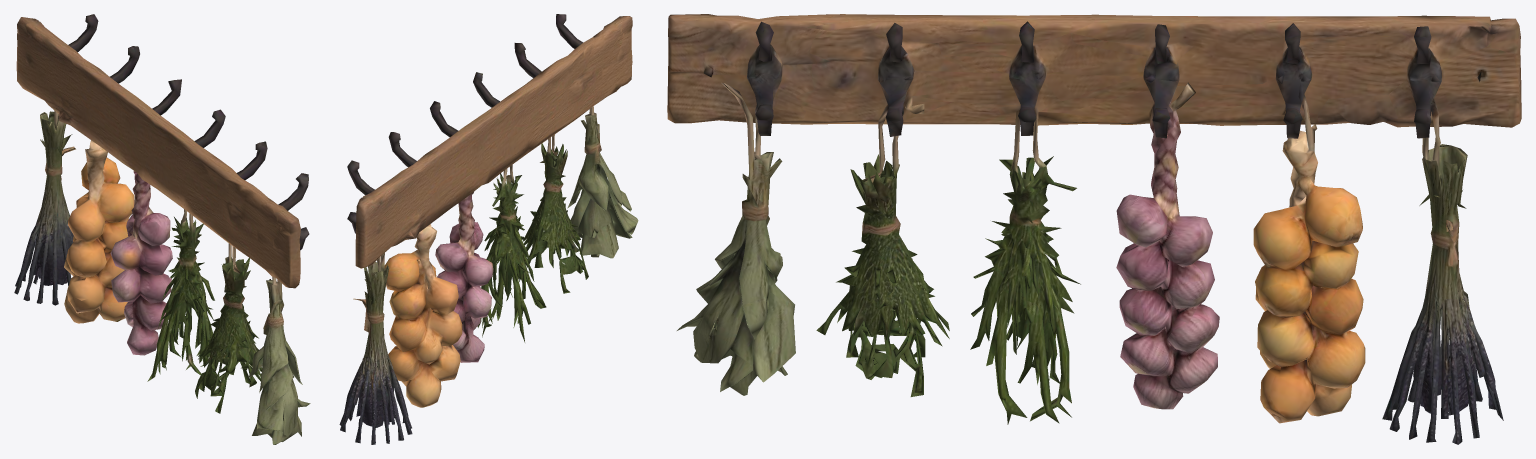
Rendered from k_herbs.glb.
3 views of the same model, side by side, from view 1: azimuth 30°, elevation 25°; view 2: azimuth 150°, elevation 25°; view 3: azimuth 270°, elevation 25° (orthographic). The views are drawn at different scales.
Parts seen in each view (by area): view 1: tripo_node_c9d8a2b1-bd41-438d-8f3b-4c3ceb3fae3f; view 2: tripo_node_c9d8a2b1-bd41-438d-8f3b-4c3ceb3fae3f; view 3: tripo_node_c9d8a2b1-bd41-438d-8f3b-4c3ceb3fae3f.
Part boxes in pixels (x1=…): tripo_node_c9d8a2b1-bd41-438d-8f3b-4c3ceb3fae3f: x1=14, y1=14, x2=310, y2=444; tripo_node_c9d8a2b1-bd41-438d-8f3b-4c3ceb3fae3f: x1=339, y1=14, x2=638, y2=444; tripo_node_c9d8a2b1-bd41-438d-8f3b-4c3ceb3fae3f: x1=667, y1=14, x2=1521, y2=444.
Bounding box in the file's own units: 0.1548 × 0.5382 × 1.
Materials: 1 (1 with a texture image).
